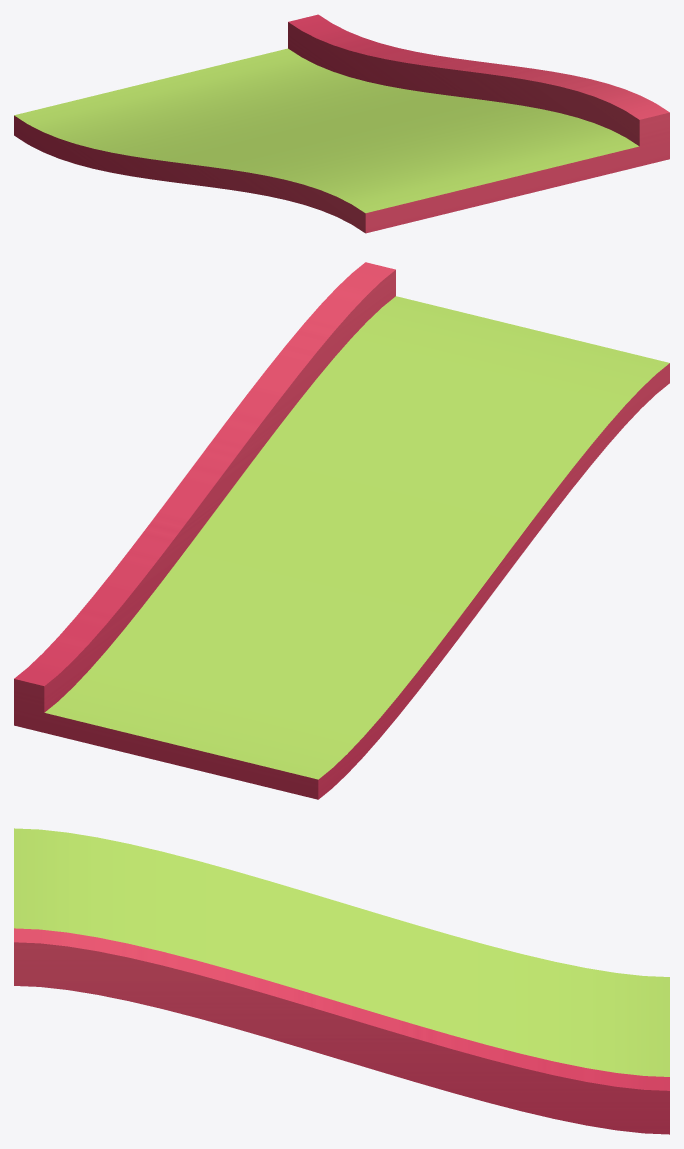
File: ramp-large-side.fbx
The picture shows the model from 3 angles, top to bottom: view 1: azimuth 30°, elevation 25°; view 2: azimuth 150°, elevation 25°; view 3: azimuth 270°, elevation 25°; orthographic projection. The views are drawn at different scales.
Visible parts, largest first — view 1: ramp_large_side; view 2: ramp_large_side; view 3: ramp_large_side.
Part boxes in pixels (<box>): ramp_large_side: <box>14,14,669,233</box>; ramp_large_side: <box>14,262,669,799</box>; ramp_large_side: <box>14,828,669,1134</box>.
Bounding box in the file's own units: 99.99 × 64.67 × 200.
Materials: 1 (1 with a texture image).
